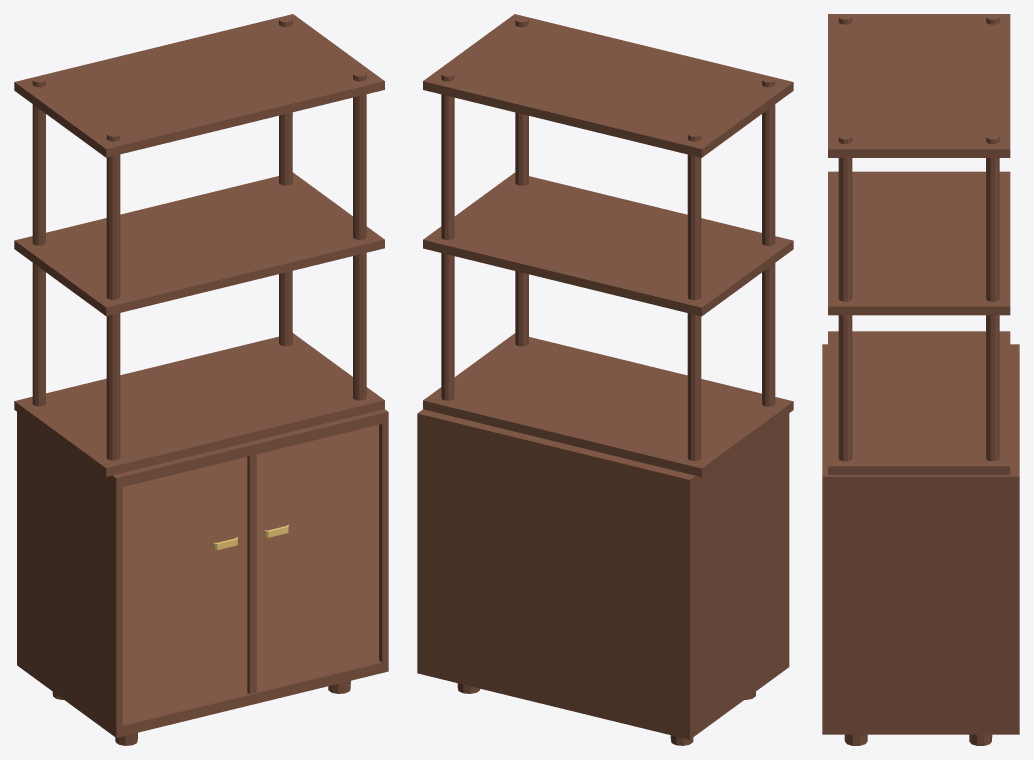
Rendered from шкаф3_3.fbx.
3 views of the same model, side by side, from view 1: azimuth 30°, elevation 25°; view 2: azimuth 150°, elevation 25°; view 3: azimuth 270°, elevation 25° (orthographic).
Visible parts, largest first — view 1: Cylinder.026; view 2: Cylinder.026; view 3: Cylinder.026.
Part boxes in pixels (x1,y1,x2,y2): Cylinder.026: (14,14,388,745); Cylinder.026: (417,14,793,745); Cylinder.026: (822,14,1019,745).
Size of the model in its own units: 561 by 1181 by 345.
